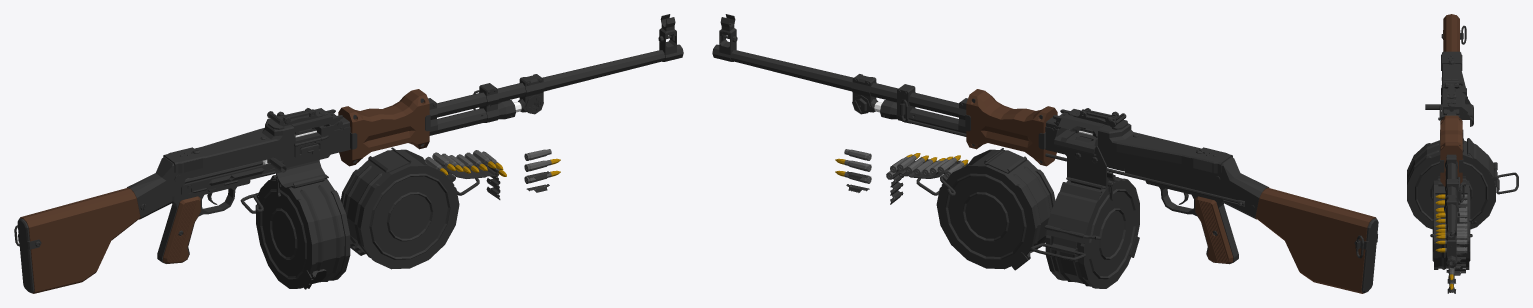
The model's file is rpd-44.glb.
3 views of the same model, side by side, from view 1: azimuth 30°, elevation 25°; view 2: azimuth 150°, elevation 25°; view 3: azimuth 270°, elevation 25° (orthographic). The views are drawn at different scales.
Visible parts, largest first — view 1: rpd-44_7, 76239 rpd box mag 100rnd_3, 76239 rpd box mag empty 100rnd_5, rpd top cover_8; view 2: rpd-44_7, 76239 rpd box mag 100rnd_3, 76239 rpd box mag empty 100rnd_5, rpd top cover_8; view 3: 76239 rpd box mag empty 100rnd_5, rpd-44_7, 76239 rpd box mag 100rnd_3, rpd top cover_8, rpd muzzle_6, rpd reload handle_13.
Boxes of the visible parts, x1,y1,x2,y2 form: rpd-44_7: [14, 14, 677, 293]; 76239 rpd box mag 100rnd_3: [341, 147, 506, 269]; 76239 rpd box mag empty 100rnd_5: [240, 175, 350, 289]; rpd top cover_8: [163, 108, 342, 173]; rpd-44_7: [718, 14, 1378, 293]; 76239 rpd box mag 100rnd_3: [886, 148, 1055, 270]; 76239 rpd box mag empty 100rnd_5: [1030, 175, 1139, 288]; rpd top cover_8: [1053, 108, 1232, 173]; 76239 rpd box mag empty 100rnd_5: [1407, 138, 1518, 229]; rpd-44_7: [1439, 14, 1473, 264]; 76239 rpd box mag 100rnd_3: [1430, 176, 1476, 275]; rpd top cover_8: [1441, 51, 1467, 118]; rpd muzzle_6: [1446, 255, 1457, 267]; rpd reload handle_13: [1425, 104, 1441, 109].
Bounding box in the file's own units: 10.73 × 2.77 × 1.98.
